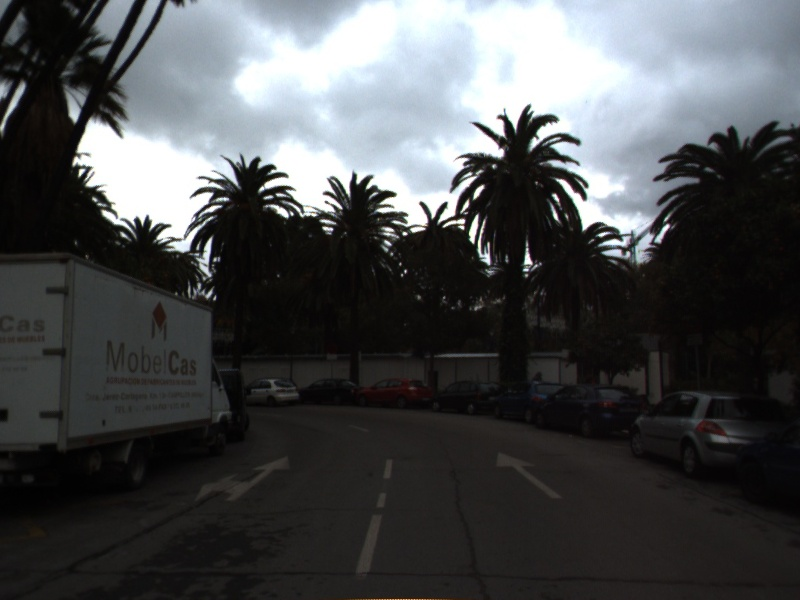STRAIGHT: (494, 450, 565, 500)
STRAIGHT_LEFT: (193, 453, 292, 503)
